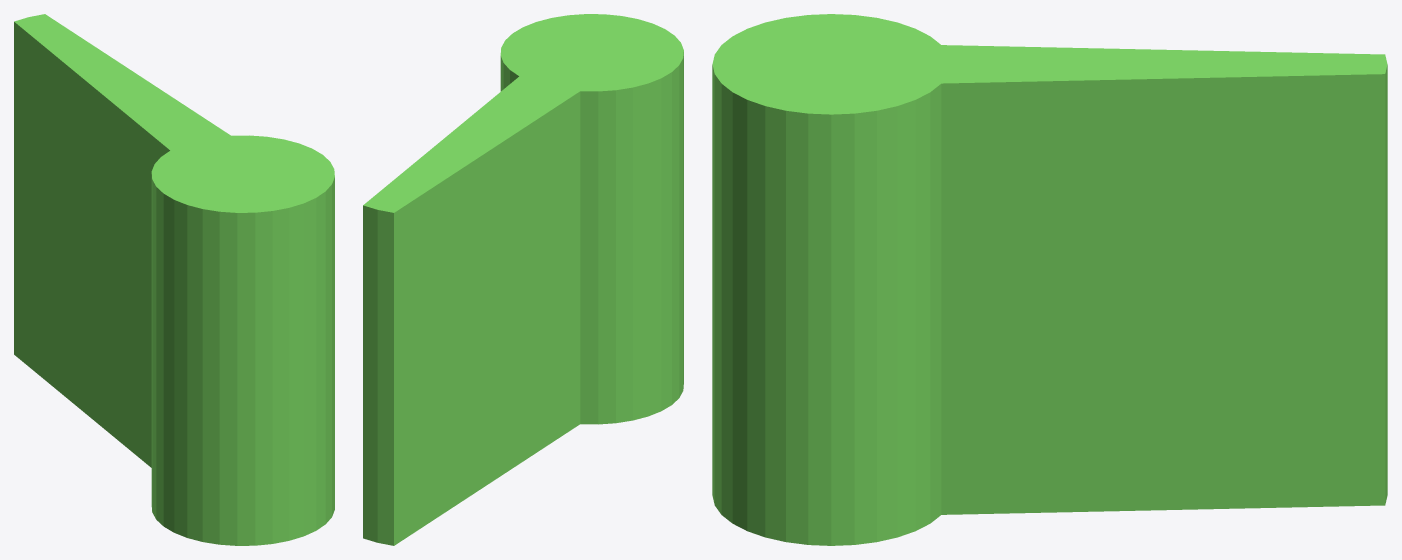
The model's file is Fliper_ver2.fbx.
The picture shows the model from 3 angles, left to right: view 1: azimuth 30°, elevation 25°; view 2: azimuth 150°, elevation 25°; view 3: azimuth 270°, elevation 25°; orthographic projection. The views are drawn at different scales.
Parts seen in each view (by area): view 1: 円柱; view 2: 円柱; view 3: 円柱.
Boxes of the visible parts, x1,y1,x2,y2 form: 円柱: (14,14,334,545); 円柱: (363,14,683,545); 円柱: (712,14,1387,545).
Size of the model in its own units: 100 by 200 by 284.
